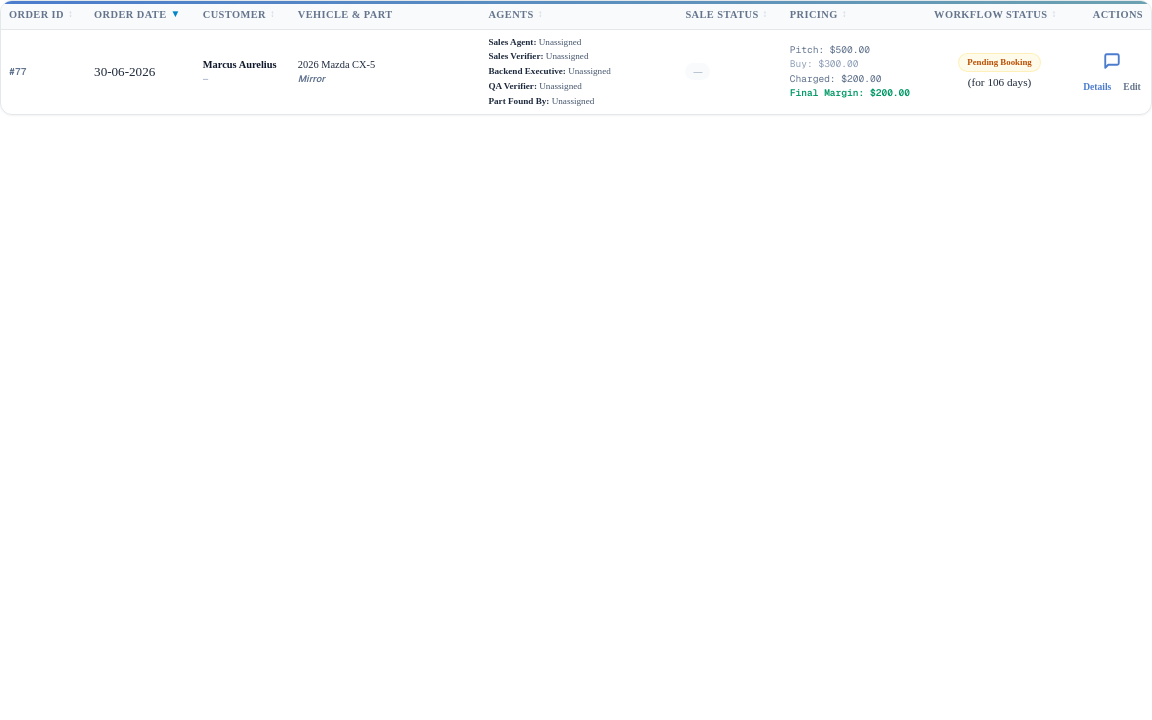
Test: OrderList Action Comments Popup Unit Tests › should render a comment button in the Actions column and open a popup with CommentTimeline on click
Note: Click on the comments button
Click the button titled "View Comments". click: (1112, 62)
box: [1099,48,1125,74]
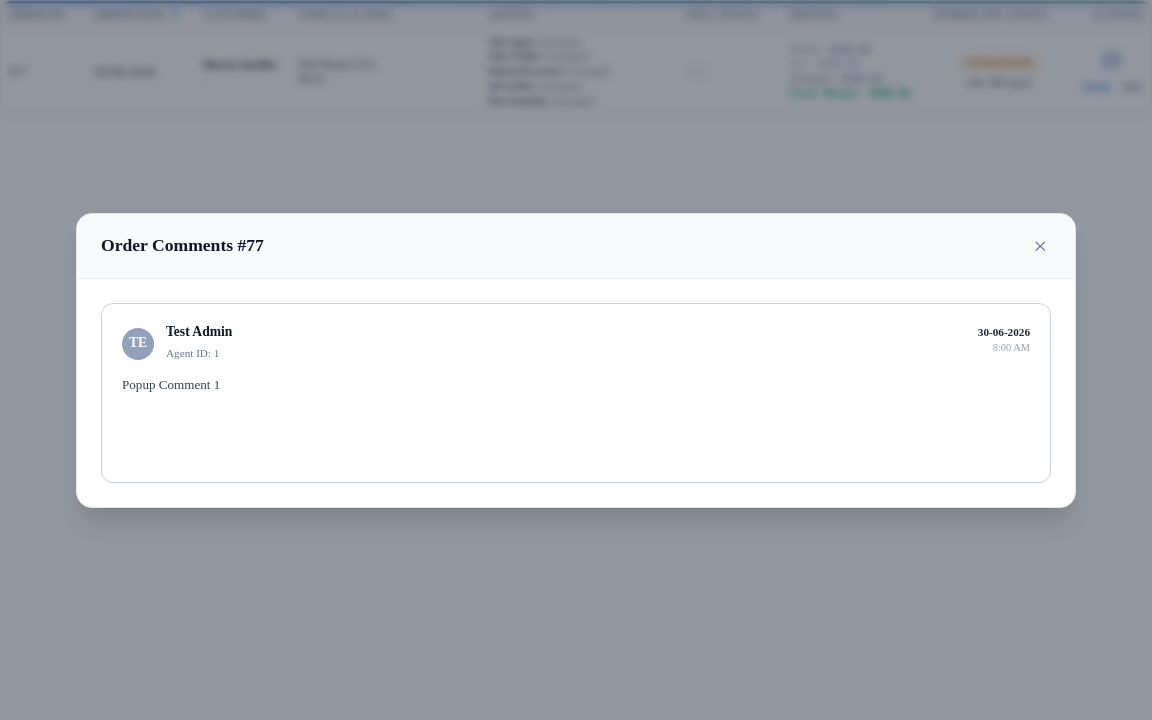
Now the heading "Order Comments #77" is shown, box [101,232,264,259]
Now the text "Popup Comment 1" is shown, box [122,377,220,392]
Note: Close the popup
Click the button "×". click: (1040, 246)
box: [1030,230,1051,262]
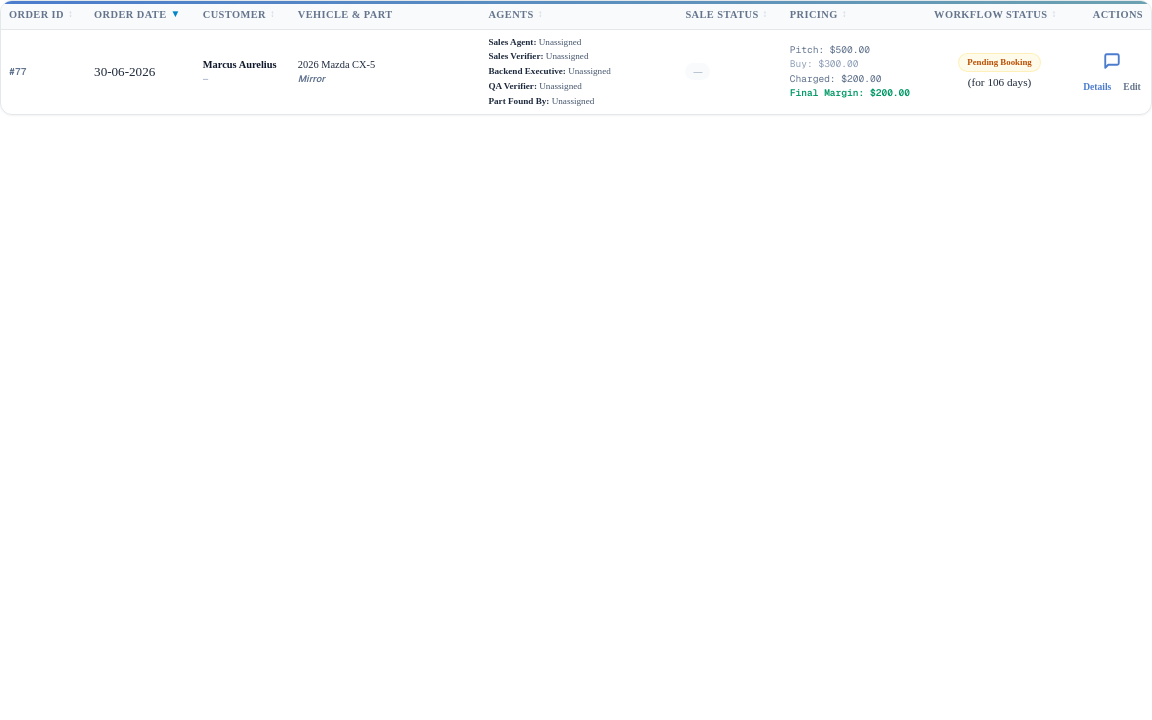
Now the heading "Order Comments #77" is gone
